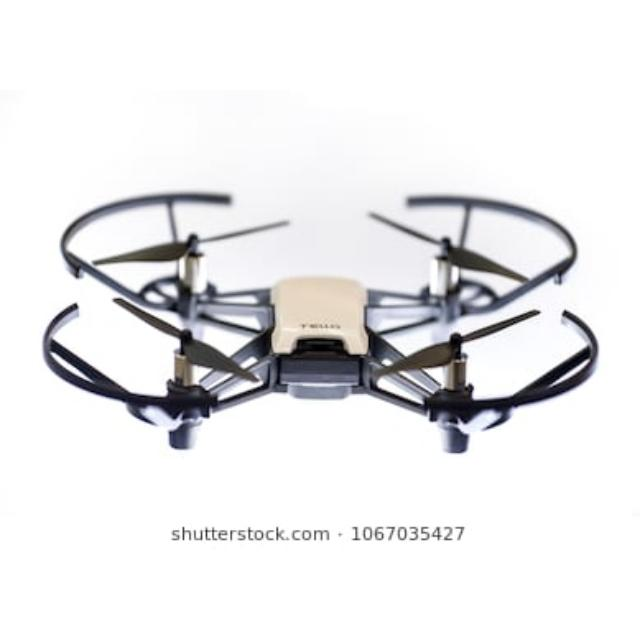Drones: (65, 188, 600, 472)
